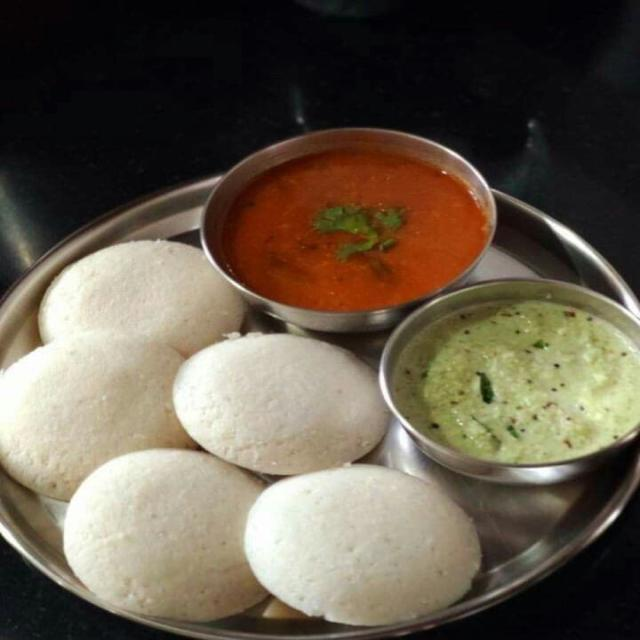chutney: (393, 304, 640, 464)
idly: (53, 451, 273, 620), (259, 470, 481, 619), (176, 338, 393, 467), (35, 240, 254, 364), (8, 338, 192, 474)
